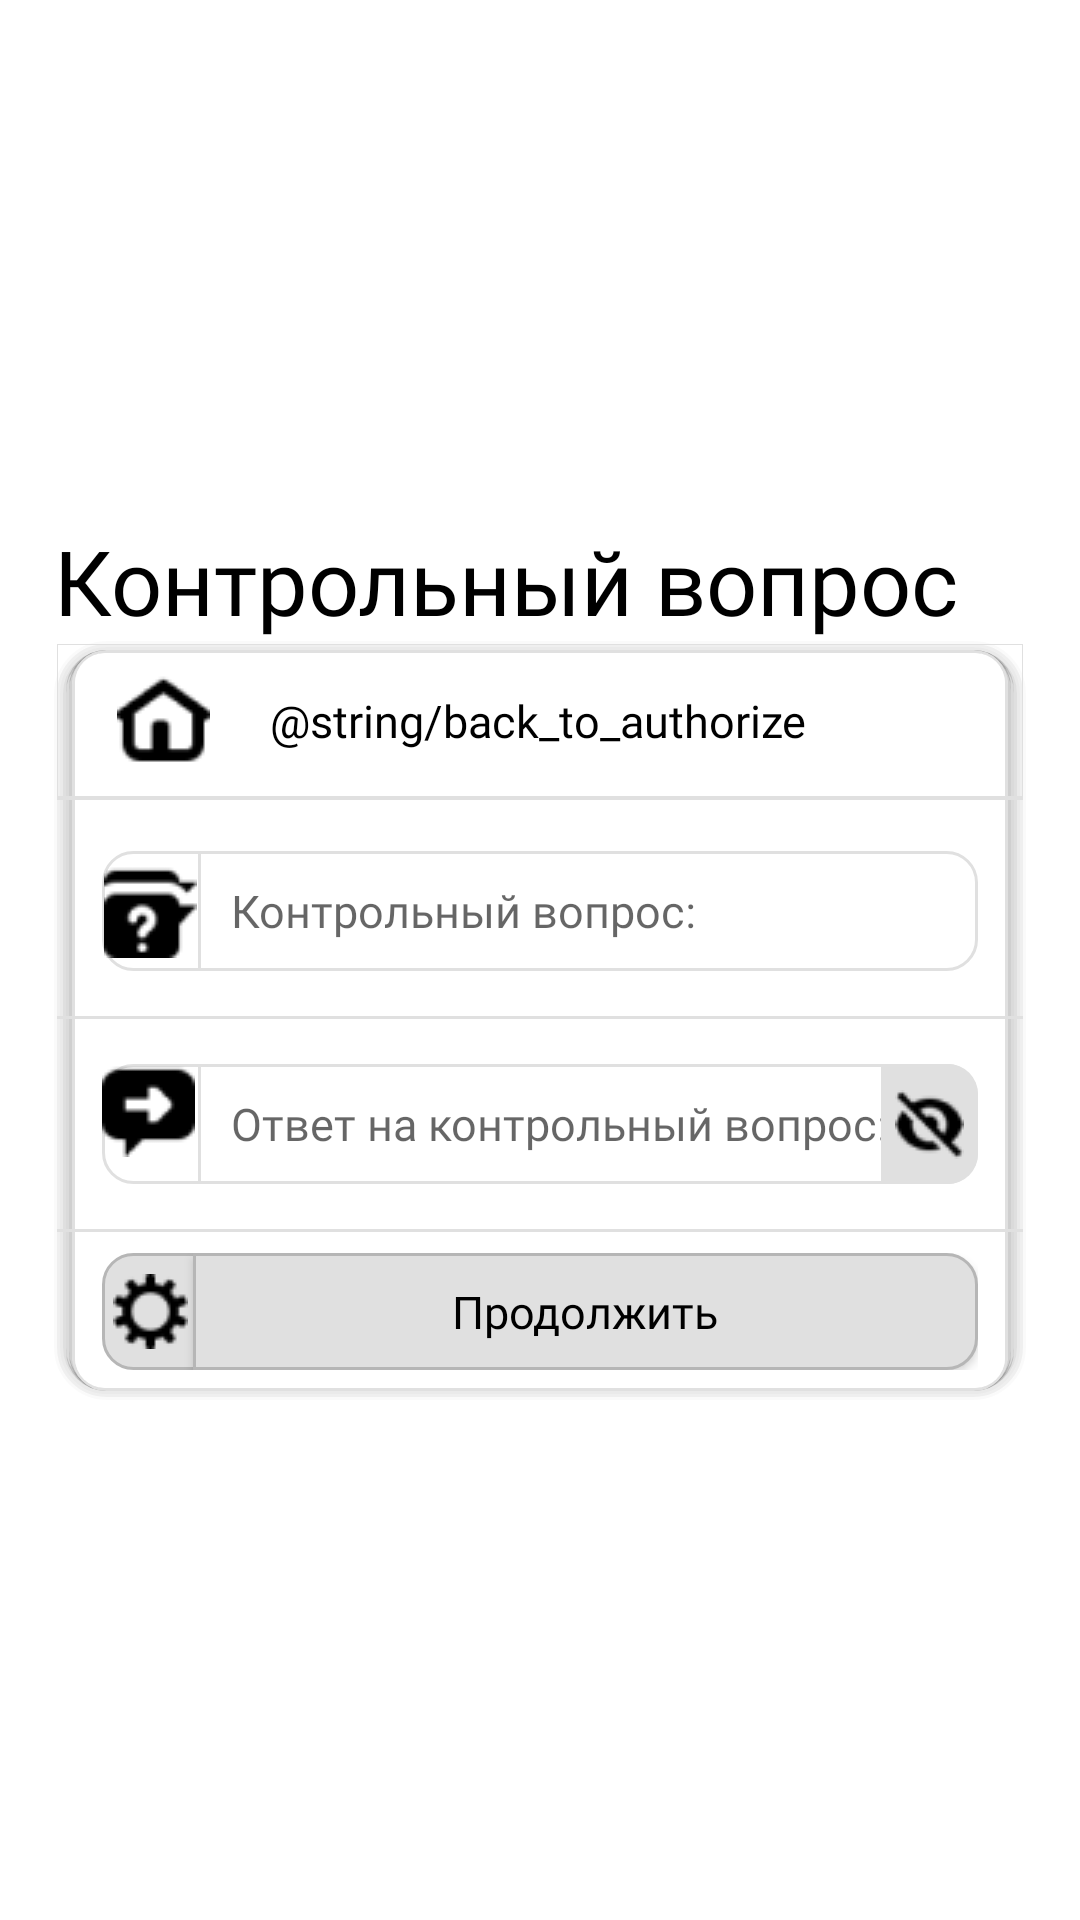

Named icons in this screenshot (1080px x 1920px) and their bounding boxes, (x1=x1, y1=y1, x2=x2, y2=y2):
answer: (x1=102, y1=1064, x2=195, y2=1157)
eye: (x1=881, y1=1064, x2=978, y2=1184)
question: (x1=104, y1=865, x2=197, y2=958)
settings: (x1=102, y1=1253, x2=198, y2=1370)
